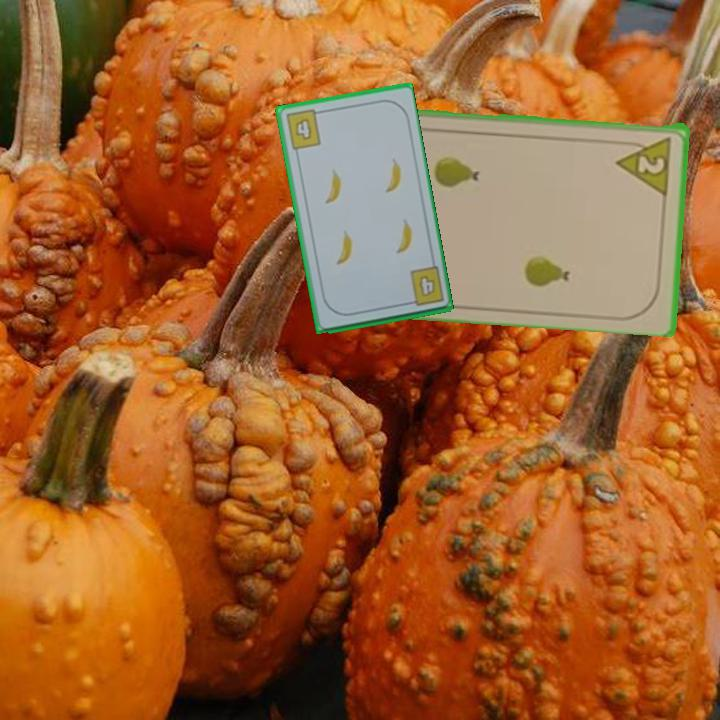2p: (614, 132, 675, 196)
4b: (402, 263, 446, 309), (282, 106, 325, 152)
